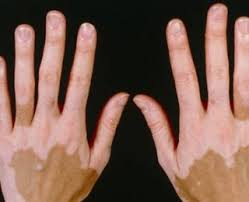vitiligo: (7, 26, 116, 163), (151, 23, 249, 163)
